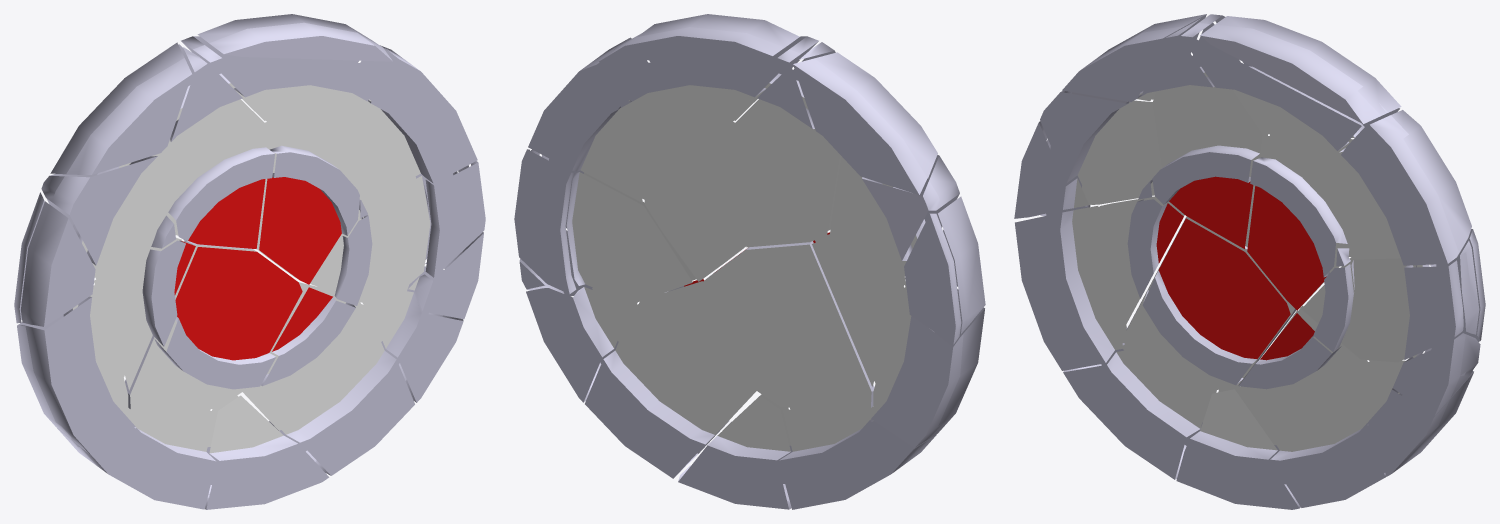
The model's file is target2fractured.glb.
3 renders of one model, left to right at view 1: azimuth 30°, elevation 25°; view 2: azimuth 150°, elevation 25°; view 3: azimuth 330°, elevation 25°, orthographic.
Parts seen in each view (by area): view 1: window_round_cell.005, window_round_cell.015, window_round_cell.022, window_round_cell.016, window_round_cell, window_round_cell.002, window_round_cell.009, window_round_cell.014, window_round_cell.012, window_round_cell.011, window_round_cell.006, window_round_cell.027 (+11 smaller); view 2: window_round_cell.022, window_round_cell.005, window_round_cell.015, window_round_cell.016, window_round_cell.014, window_round_cell, window_round_cell.019, window_round_cell.012, window_round_cell.002, window_round_cell.006, window_round_cell.009, window_round_cell.011 (+9 smaller); view 3: window_round_cell.005, window_round_cell.015, window_round_cell.002, window_round_cell.022, window_round_cell.016, window_round_cell, window_round_cell.012, window_round_cell.009, window_round_cell.017, window_round_cell.011, window_round_cell.006, window_round_cell.027 (+11 smaller).
Part boxes in pixels (<box>): window_round_cell.005: <box>125,240,302,409</box>; window_round_cell.015: <box>157,44,274,248</box>; window_round_cell.022: <box>243,282,414,475</box>; window_round_cell.016: <box>256,93,360,284</box>; window_round_cell: <box>17,283,135,455</box>; window_round_cell.002: <box>354,45,477,218</box>; window_round_cell.009: <box>41,154,175,280</box>; window_round_cell.014: <box>50,42,192,174</box>; window_round_cell.012: <box>57,408,216,509</box>; window_round_cell.011: <box>205,395,329,509</box>; window_round_cell.006: <box>181,36,391,125</box>; window_round_cell.027: <box>310,176,430,304</box>; window_round_cell.022: <box>585,281,756,478</box>; window_round_cell.005: <box>699,240,874,407</box>; window_round_cell.015: <box>731,42,841,247</box>; window_round_cell.016: <box>620,93,745,281</box>; window_round_cell.014: <box>793,52,937,194</box>; window_round_cell: <box>871,286,984,447</box>; window_round_cell.019: <box>566,172,692,303</box>; window_round_cell.012: <box>779,407,936,509</box>; window_round_cell.002: <box>528,37,647,202</box>; window_round_cell.006: <box>600,36,818,125</box>; window_round_cell.009: <box>830,155,959,282</box>; window_round_cell.011: <box>678,394,792,509</box>; window_round_cell.005: <box>1124,216,1296,390</box>; window_round_cell.015: <box>1141,18,1267,248</box>; window_round_cell.002: <box>1336,110,1471,266</box>; window_round_cell.022: <box>1240,305,1386,507</box>; window_round_cell.016: <box>1247,134,1354,310</box>; window_round_cell: <box>1015,206,1127,370</box>; window_round_cell.012: <box>1063,343,1216,479</box>; window_round_cell.009: <box>1040,90,1161,204</box>; window_round_cell.017: <box>1200,16,1401,123</box>; window_round_cell.011: <box>1176,385,1300,509</box>; window_round_cell.006: <box>1181,14,1399,150</box>; window_round_cell.027: <box>1301,258,1416,362</box>.
Size of the model in its own units: 0.4277 by 0.4277 by 0.05.
